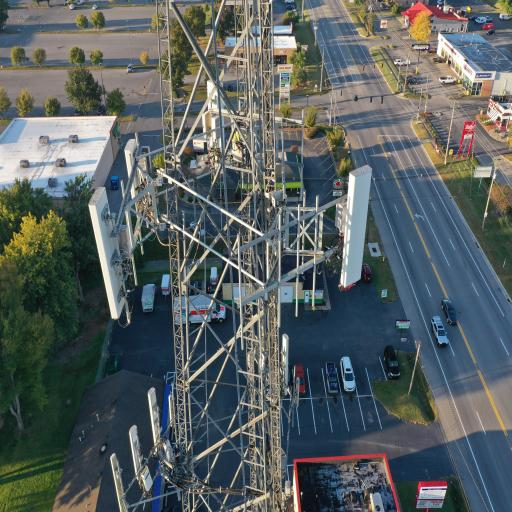supporting_tower: (86, 0, 380, 512)
